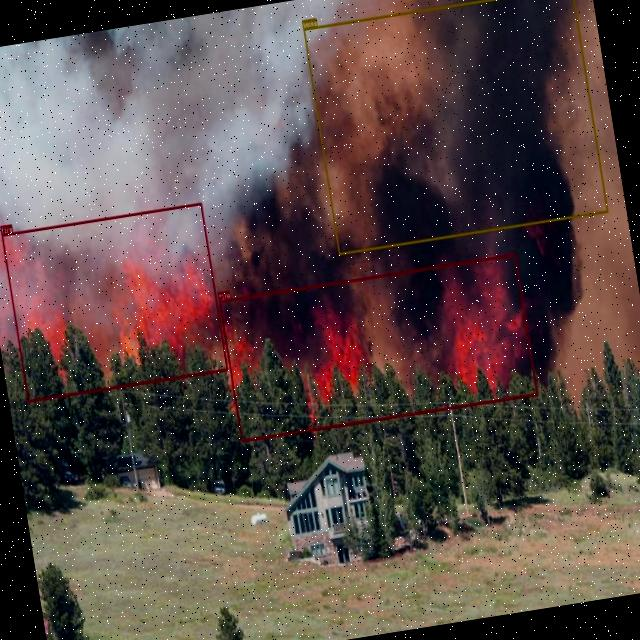fire: (219, 254, 538, 442), (1, 203, 228, 402)
smoke: (303, 0, 608, 254)
